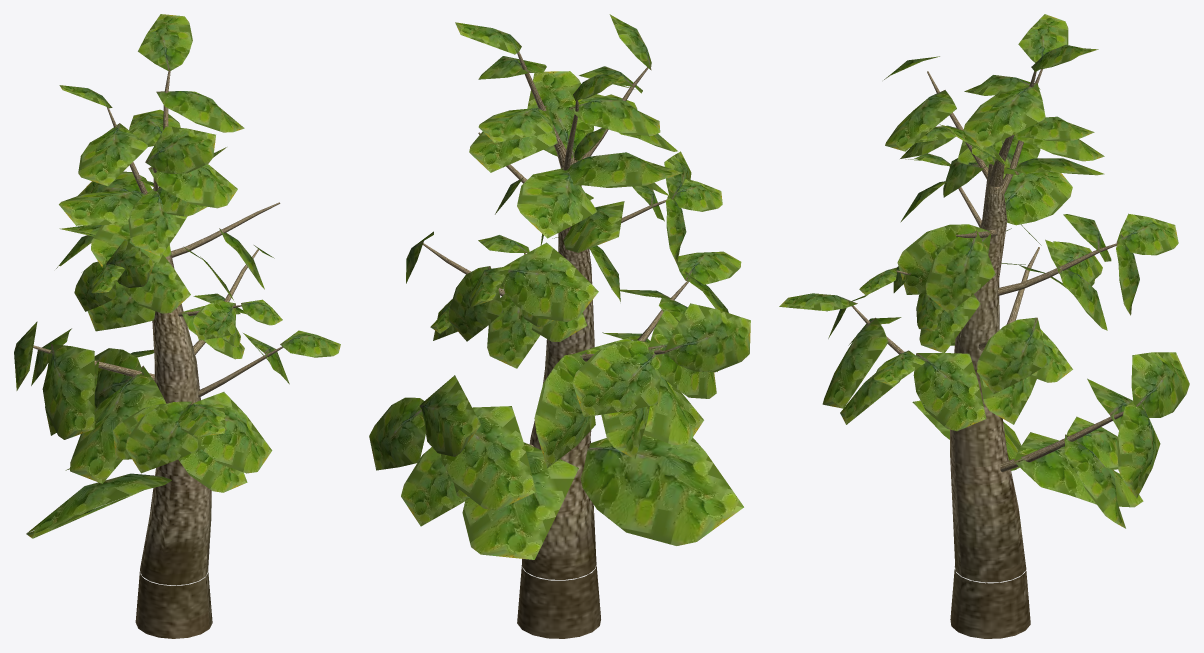
File: oak-green.glb
3 views of the same model, side by side, from view 1: azimuth 30°, elevation 25°; view 2: azimuth 150°, elevation 25°; view 3: azimuth 270°, elevation 25° (orthographic). The views are drawn at different scales.
Visible parts, largest first — view 1: high, low; view 2: high, low; view 3: high, low.
Part boxes in pixels (box(x1,y1,x2,y2)): high: box(14, 14, 340, 638); low: box(17, 14, 340, 585); high: box(369, 14, 750, 638); low: box(369, 16, 750, 623); high: box(779, 14, 1189, 638); low: box(779, 14, 1188, 583).
Bounding box in the file's own units: 1.91 × 3.5 × 2.2.
Materials: 3 (2 with a texture image).
